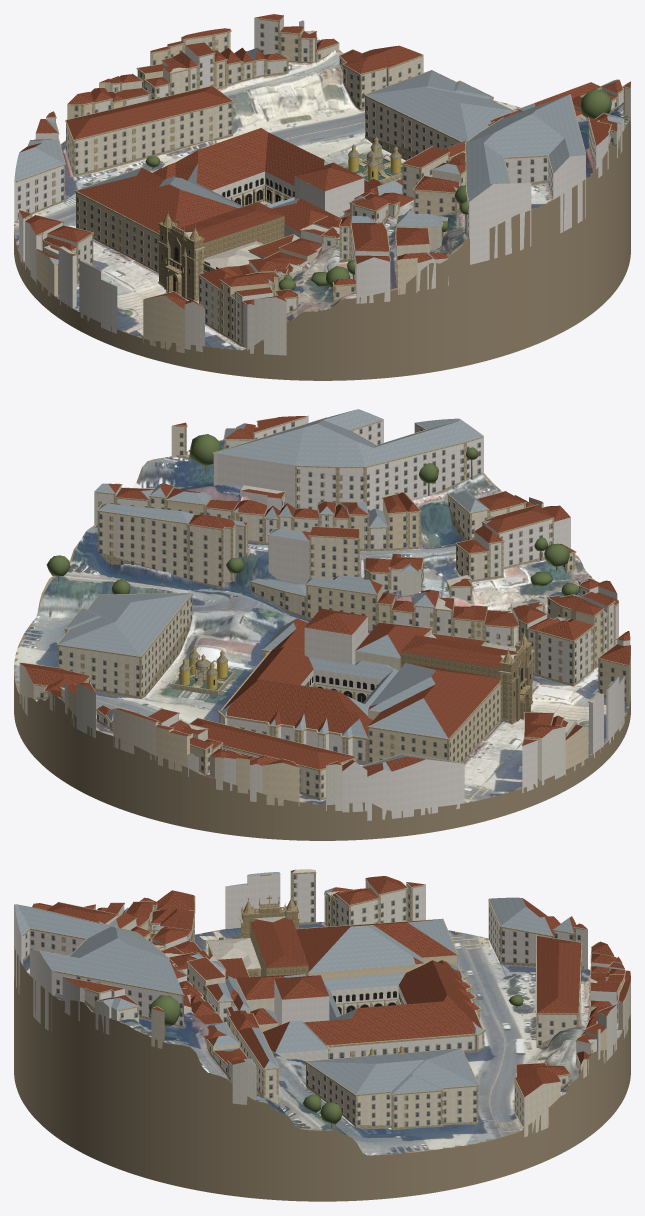
File: santa-cruz-rico.glb
3 views of the same model, one above another, from view 1: azimuth 30°, elevation 25°; view 2: azimuth 150°, elevation 25°; view 3: azimuth 270°, elevation 25° (orthographic).
Parts seen in each view (by area): view 1: Edif_contexto, Terreno, Rico_cantaria, Edif_conjunto_relation_2962560, Rico_janela, Edif_conjunto_way_204192080, Arvores, Edif_conjunto_way_204192080_pedra-igreja, Rico_lavrado, Edif_conjunto_way_223328749, Rico_escuro, Edif_conjunto_way_873267259_reboco-amarelo; view 2: Edif_contexto, Terreno, Rico_cantaria, Edif_conjunto_relation_2962560, Rico_janela, Arvores, Edif_conjunto_way_204192080, Edif_conjunto_way_204192080_pedra-igreja, Edif_conjunto_way_873267259_reboco-amarelo, Rico_lavrado; view 3: Terreno, Edif_contexto, Edif_conjunto_relation_2962560, Rico_cantaria, Rico_janela, Edif_conjunto_way_204192080, Arvores, Edif_conjunto_way_223328749, Edif_conjunto_way_204192080_pedra-igreja.
Part boxes in pixels (bbox=[...]): Edif_contexto: bbox=[14, 14, 630, 355]; Terreno: bbox=[14, 39, 630, 380]; Rico_cantaria: bbox=[16, 18, 628, 347]; Edif_conjunto_relation_2962560: bbox=[153, 128, 383, 207]; Rico_janela: bbox=[18, 24, 616, 342]; Edif_conjunto_way_204192080: bbox=[177, 202, 284, 298]; Arvores: bbox=[145, 89, 611, 290]; Edif_conjunto_way_204192080_pedra-igreja: bbox=[158, 213, 204, 301]; Rico_lavrado: bbox=[159, 220, 218, 299]; Edif_conjunto_way_223328749: bbox=[203, 241, 262, 272]; Rico_escuro: bbox=[162, 171, 373, 291]; Edif_conjunto_way_873267259_reboco-amarelo: bbox=[348, 140, 400, 180]; Edif_contexto: bbox=[19, 409, 630, 820]; Terreno: bbox=[14, 439, 630, 840]; Rico_cantaria: bbox=[22, 416, 627, 800]; Edif_conjunto_relation_2962560: bbox=[220, 618, 398, 761]; Rico_janela: bbox=[40, 422, 625, 797]; Arvores: bbox=[46, 434, 579, 595]; Edif_conjunto_way_204192080: bbox=[400, 635, 515, 681]; Edif_conjunto_way_204192080_pedra-igreja: bbox=[499, 633, 532, 724]; Edif_conjunto_way_873267259_reboco-amarelo: bbox=[179, 649, 227, 689]; Rico_lavrado: bbox=[500, 638, 531, 721]; Terreno: bbox=[14, 922, 630, 1201]; Edif_contexto: bbox=[14, 869, 630, 1137]; Edif_conjunto_relation_2962560: bbox=[263, 960, 484, 1060]; Rico_cantaria: bbox=[16, 872, 625, 1129]; Rico_janela: bbox=[26, 874, 617, 1127]; Edif_conjunto_way_204192080: bbox=[241, 916, 308, 976]; Arvores: bbox=[149, 994, 523, 1124]; Edif_conjunto_way_223328749: bbox=[208, 938, 260, 977]; Edif_conjunto_way_204192080_pedra-igreja: bbox=[240, 898, 298, 938].
Bounding box in the file's own units: 201 × 66.42 × 200.
Materials: 27 (21 with a texture image).
